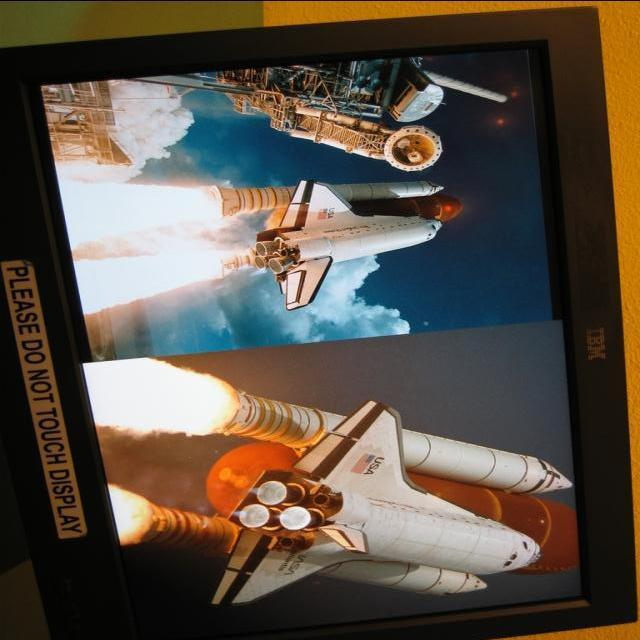Missile: (175, 360, 595, 518), (208, 171, 459, 210)
